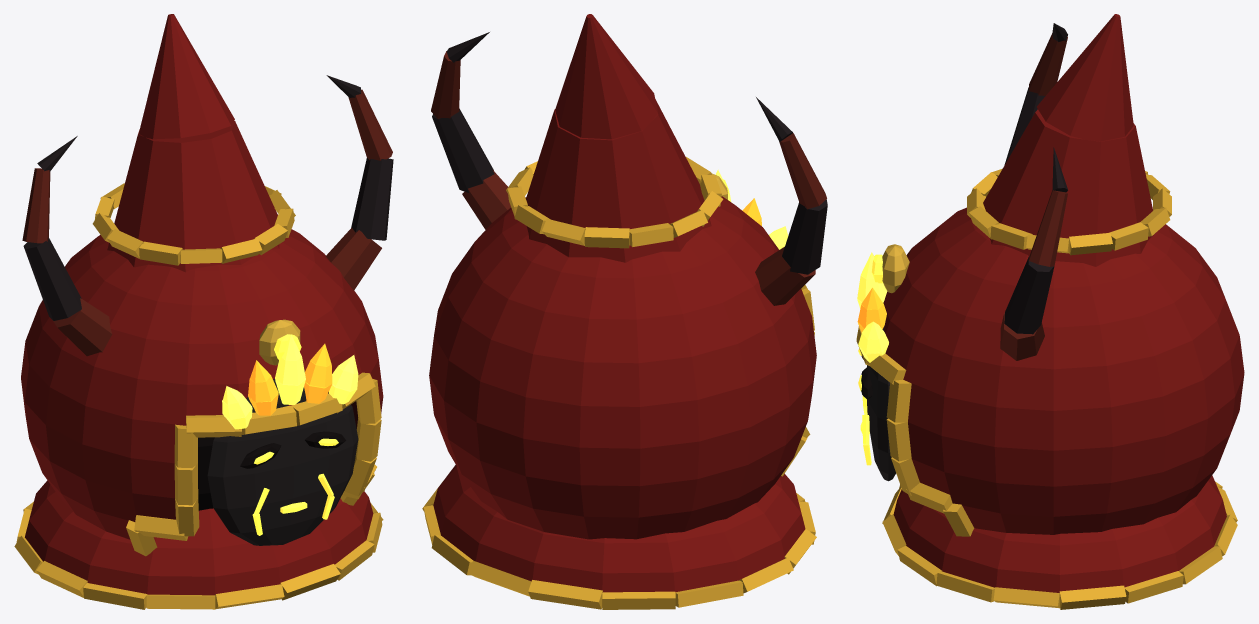
The model's file is high_pyromancer_hood.glb.
3 views of the same model, side by side, from view 1: azimuth 30°, elevation 25°; view 2: azimuth 150°, elevation 25°; view 3: azimuth 270°, elevation 25° (orthographic). The views are drawn at different scales.
Parts seen in each view (by area): view 1: high_pyromancer_hood; view 2: high_pyromancer_hood; view 3: high_pyromancer_hood.
Part boxes in pixels (bbox=[...]): high_pyromancer_hood: bbox=[14, 14, 393, 609]; high_pyromancer_hood: bbox=[422, 14, 827, 609]; high_pyromancer_hood: bbox=[856, 14, 1244, 609].
Size of the model in its own units: 1.36 by 1.83 by 1.22.
